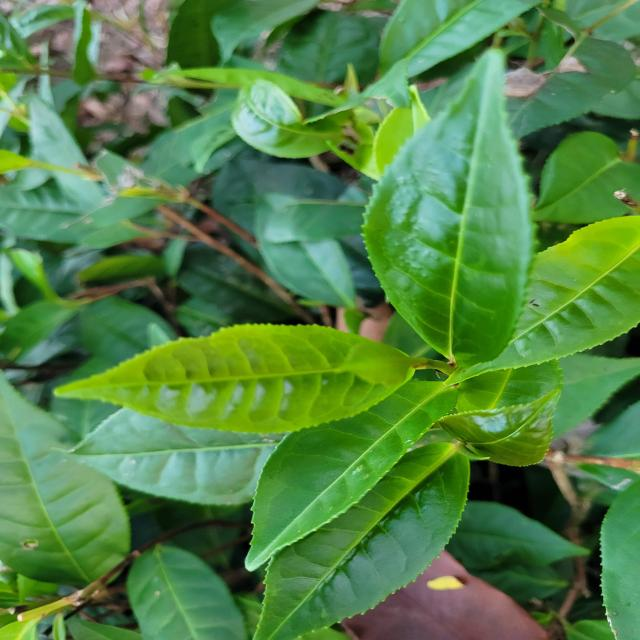Catagory A(1-2 days): (36, 300, 434, 437)
